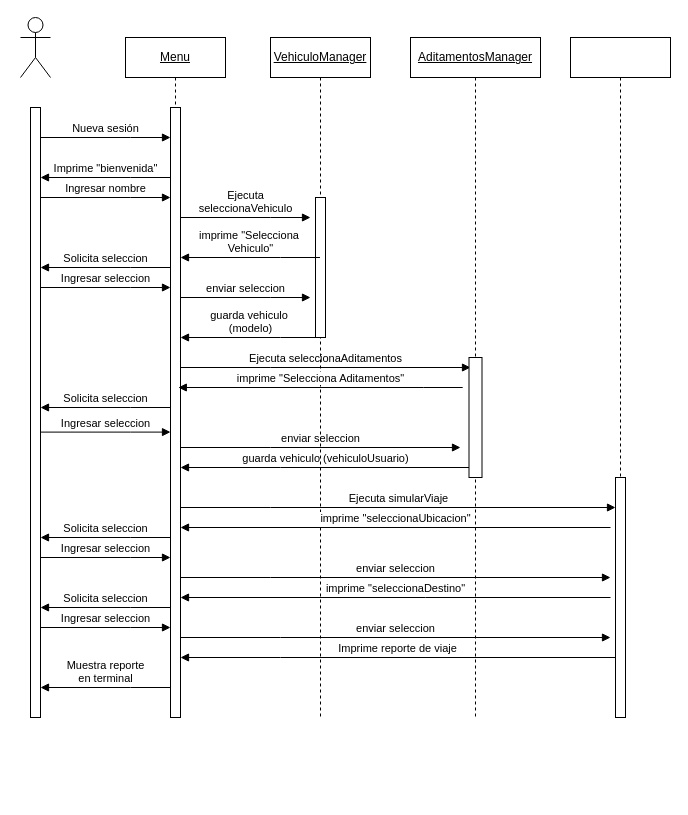
This 688x815 diagram has some shape labels left out. The shapes that lost their labels are listed below. From the top down, each one's box as (x1, y1, x2, y2) in pixels, then its label:
(20, 16, 50, 78): Cliente
(570, 36, 670, 718): DestinosManager
